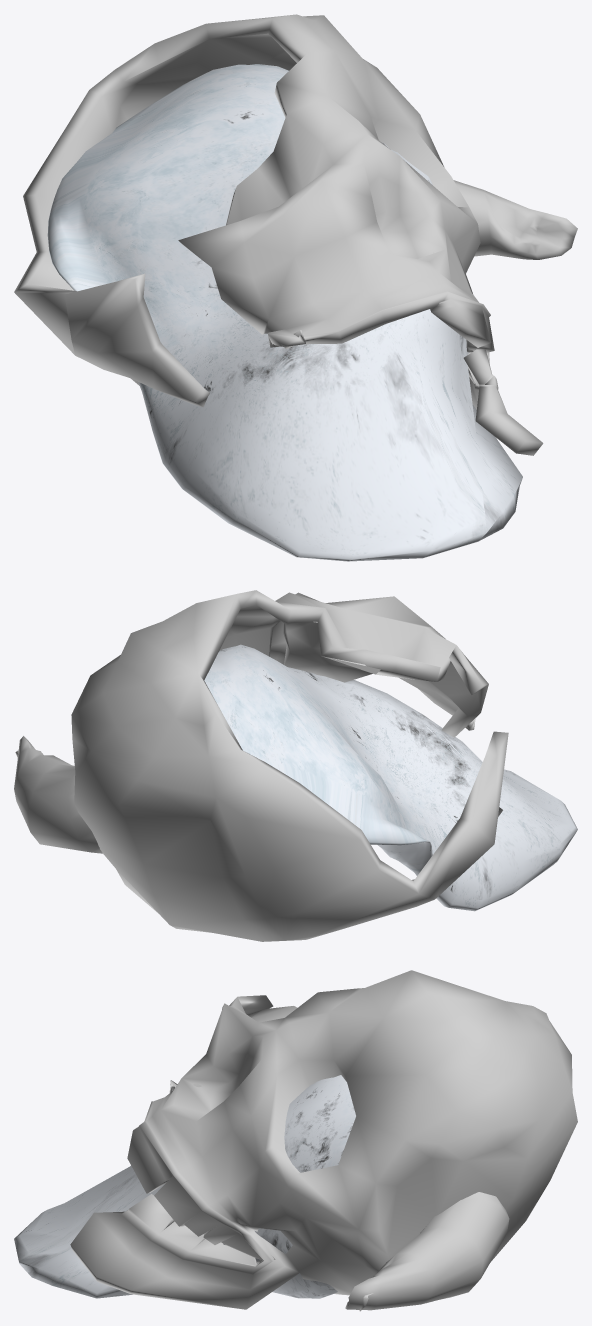
File: brokn skull.fbx
3 renders of one model, top to bottom at view 1: azimuth 30°, elevation 25°; view 2: azimuth 150°, elevation 25°; view 3: azimuth 270°, elevation 25°, orthographic. The views are drawn at different scales.
Parts seen in each view (by area): view 1: snowinskull, skullcracked; view 2: skullcracked, snowinskull; view 3: skullcracked, snowinskull.
Boxes of the visible parts, <box> form: snowinskull: <box>47,64,522,561</box>; skullcracked: <box>14,14,577,455</box>; skullcracked: <box>14,590,508,941</box>; snowinskull: <box>204,644,577,911</box>; skullcracked: <box>70,970,577,1311</box>; snowinskull: <box>14,1075,355,1298</box>.
Size of the model in its own units: 25.63 by 17.9 by 28.64.
